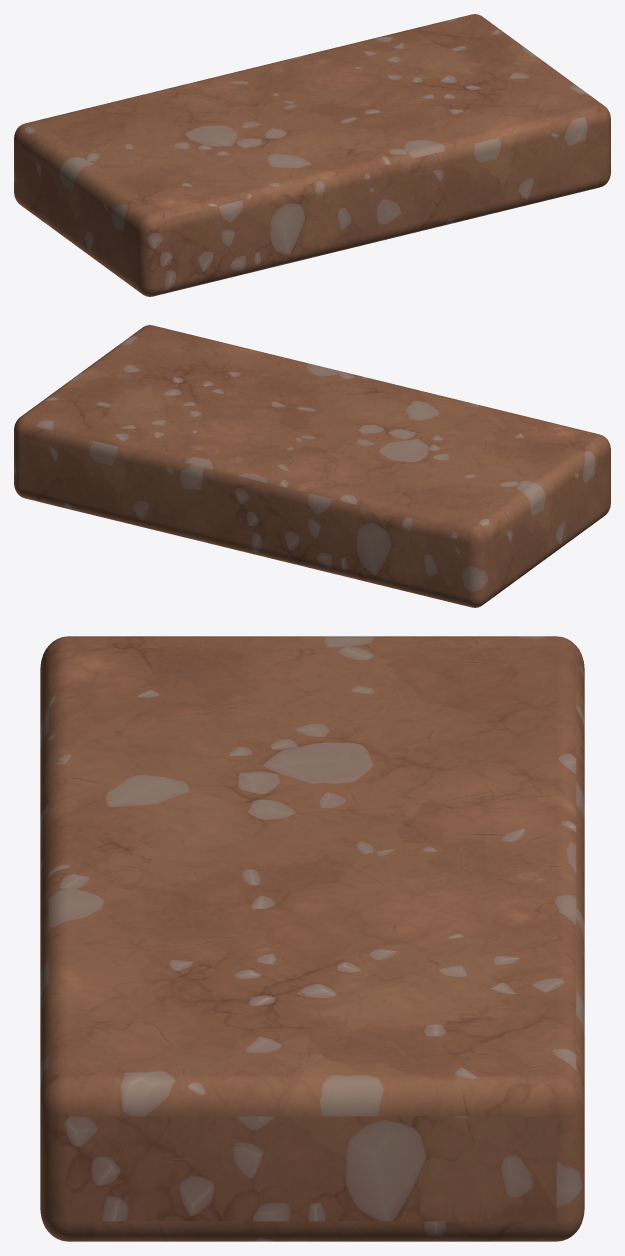
The model's file is SubGrade Course.fbx.
3 renders of one model, top to bottom at view 1: azimuth 30°, elevation 25°; view 2: azimuth 150°, elevation 25°; view 3: azimuth 270°, elevation 25°, orthographic. The views are drawn at different scales.
Visible parts, largest first — view 1: Subgrade Course (Earth, clay); view 2: Subgrade Course (Earth, clay); view 3: Subgrade Course (Earth, clay).
Boxes of the visible parts, x1,y1,x2,y2 form: Subgrade Course (Earth, clay): (14,14,610,296); Subgrade Course (Earth, clay): (14,325,610,607); Subgrade Course (Earth, clay): (40,636,584,1241).
Size of the model in its own units: 600 by 100 by 300.
Materials: 1 (1 with a texture image).
